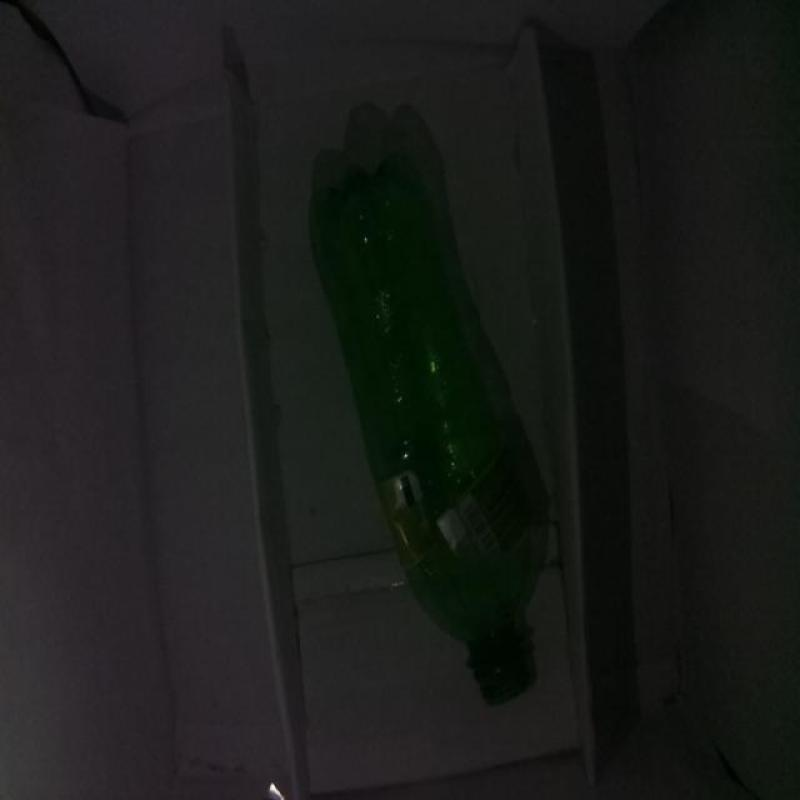botella: (306, 101, 552, 705)
